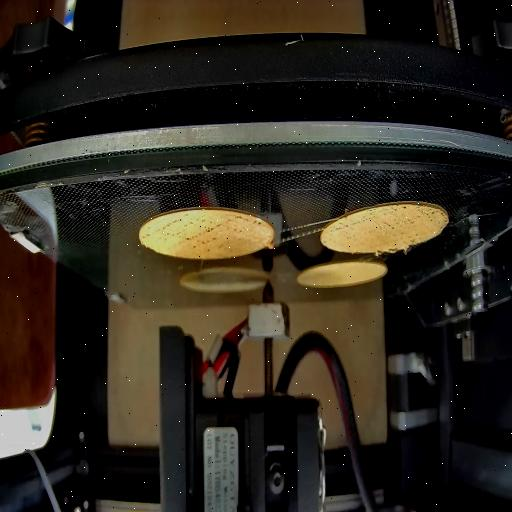under_extrusion: (156, 212, 222, 252), (380, 202, 432, 240), (231, 213, 264, 232), (328, 218, 362, 236)
